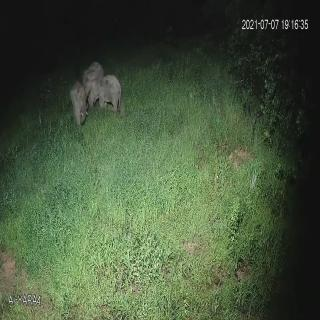Elephant: (94, 76, 126, 114), (68, 75, 89, 132), (82, 54, 106, 100)
